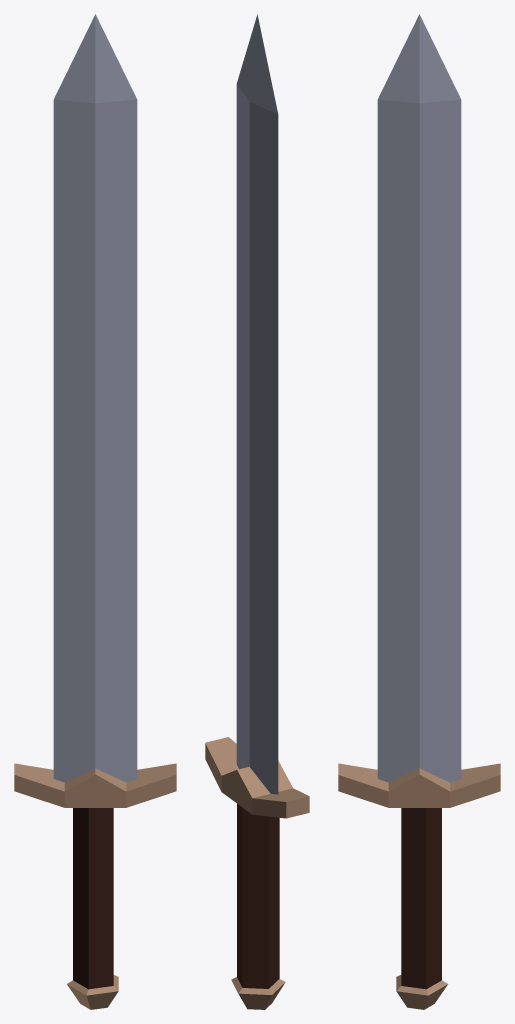
Rendered from long_sword.fbx.
3 views of the same model, side by side, from view 1: azimuth 90°, elevation 25°; view 2: azimuth 210°, elevation 25°; view 3: azimuth 270°, elevation 25° (orthographic).
Visible parts, largest first — view 1: Cube.001; view 2: Cube.001; view 3: Cube.001.
Boxes of the visible parts, box(x1,y1,x2,y2) form: Cube.001: box(14, 14, 176, 1009); Cube.001: box(205, 14, 309, 1009); Cube.001: box(338, 14, 500, 1009).
Bounding box in the file's own units: 39.7 × 792 × 118.
